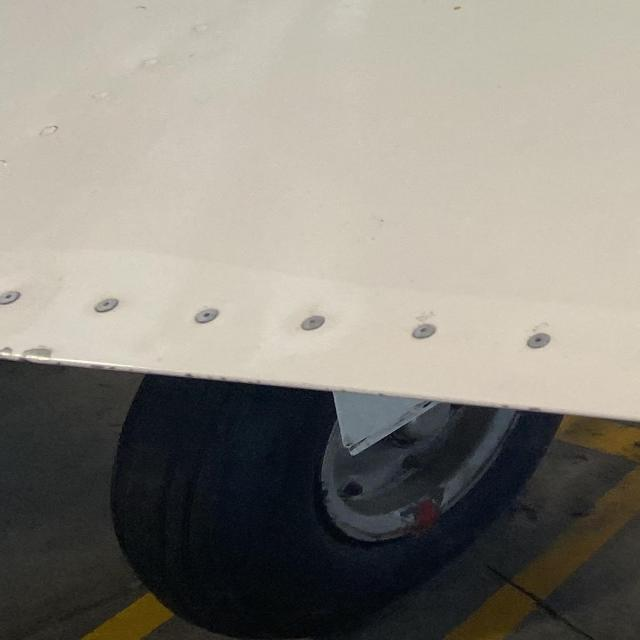Paint-off: (21, 349, 53, 363)
